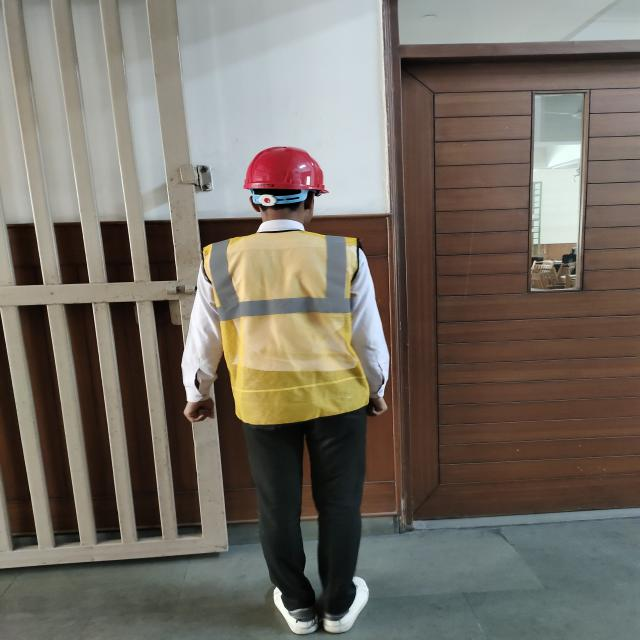safe: (190, 146, 387, 634)
